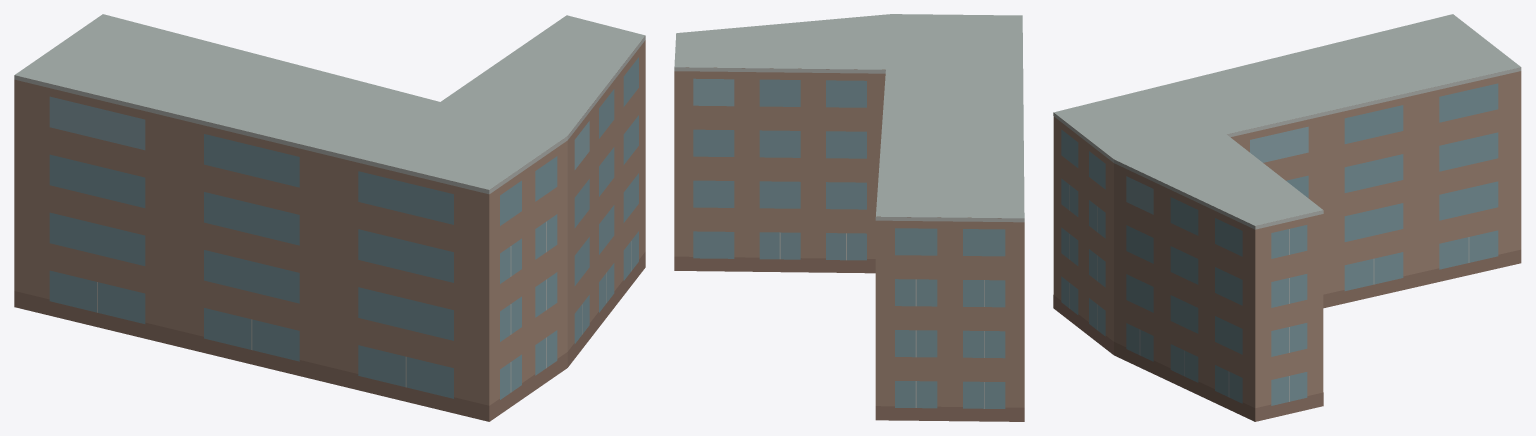
The model's file is survey-upis-32492315.glb.
3 views of the same model, side by side, from view 1: azimuth 30°, elevation 25°; view 2: azimuth 150°, elevation 25°; view 3: azimuth 270°, elevation 25° (orthographic). The views are drawn at different scales.
Visible parts, largest first — view 1: survey-upis-32492315.tmp; view 2: survey-upis-32492315.tmp; view 3: survey-upis-32492315.tmp.
Boxes of the visible parts, x1,y1,x2,y2 form: survey-upis-32492315.tmp: (14,14,645,421); survey-upis-32492315.tmp: (674,14,1024,421); survey-upis-32492315.tmp: (1053,14,1521,421).
Size of the model in its own units: 29.61 by 12.76 by 27.62.
